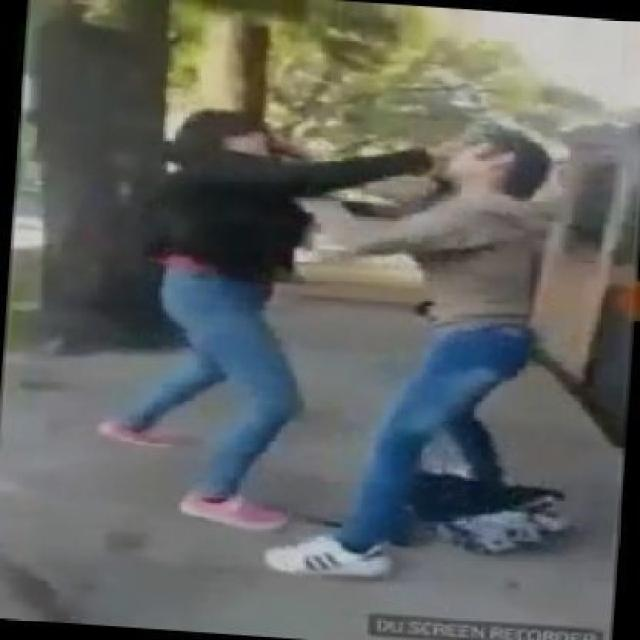fight: (103, 106, 554, 584)
